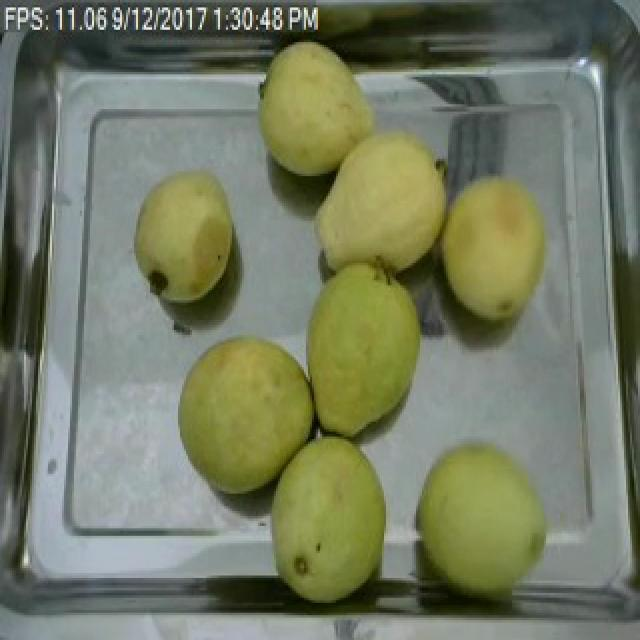Fruit: (306, 111, 460, 288), (172, 325, 320, 501), (406, 432, 558, 602), (298, 253, 432, 444), (260, 424, 396, 610), (424, 161, 566, 335), (250, 25, 392, 186), (128, 161, 242, 310)
